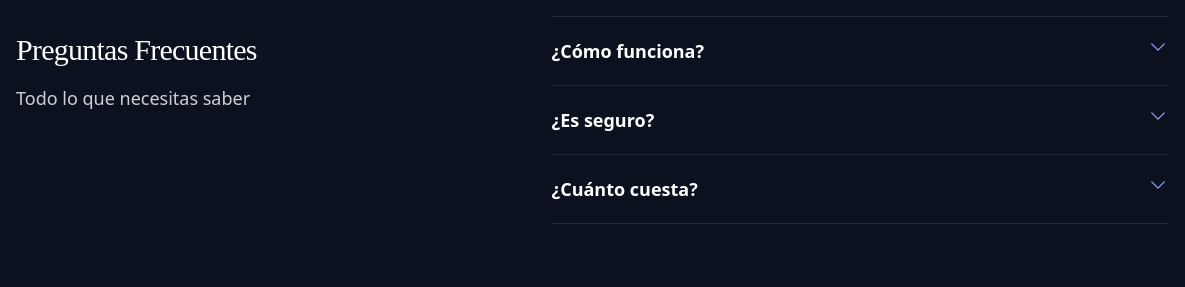
Scenario: FaqSection › muestra la respuesta al hacer clic en una pregunta
This screenshot has width=1185, height=287.
Click the button "¿Cómo funciona?" at (628, 51), box [552,17,1168,85]
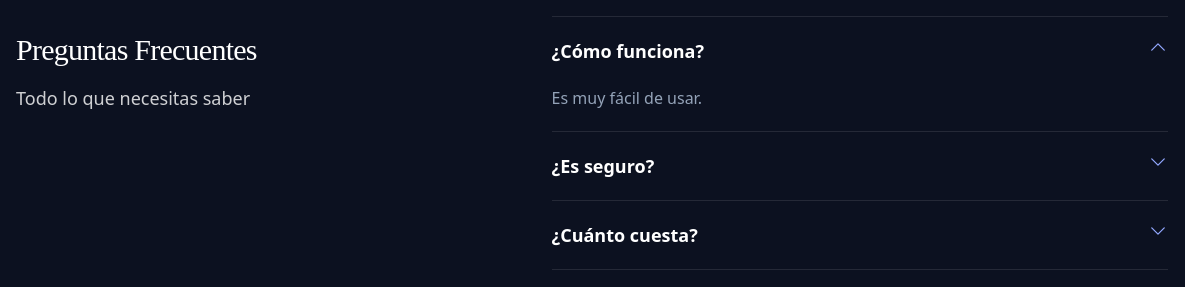
Expected: the text "Es muy fácil de usar." is shown, [552,87,702,109]
